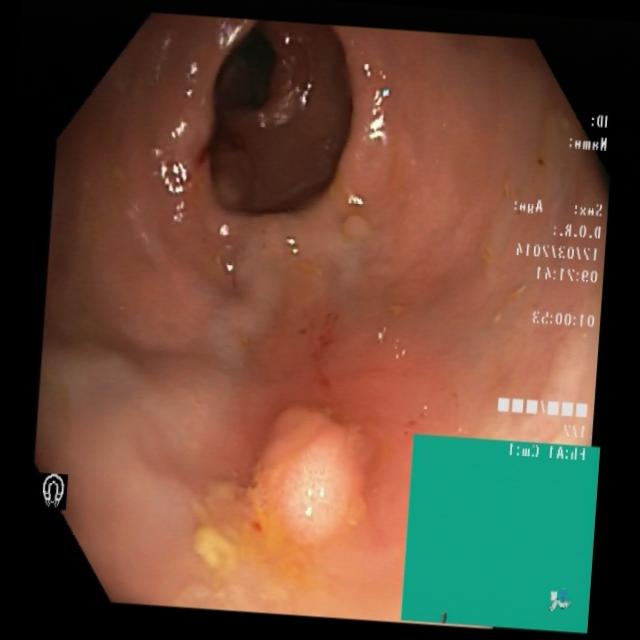Polyps: (193, 395, 372, 572)
